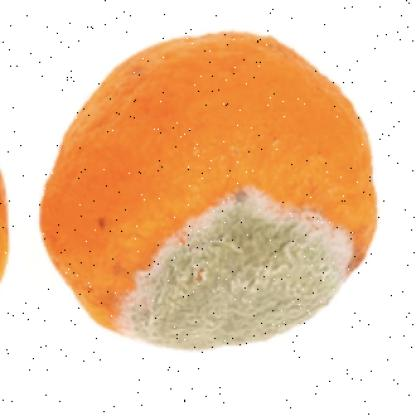rotten: (41, 29, 380, 353)
